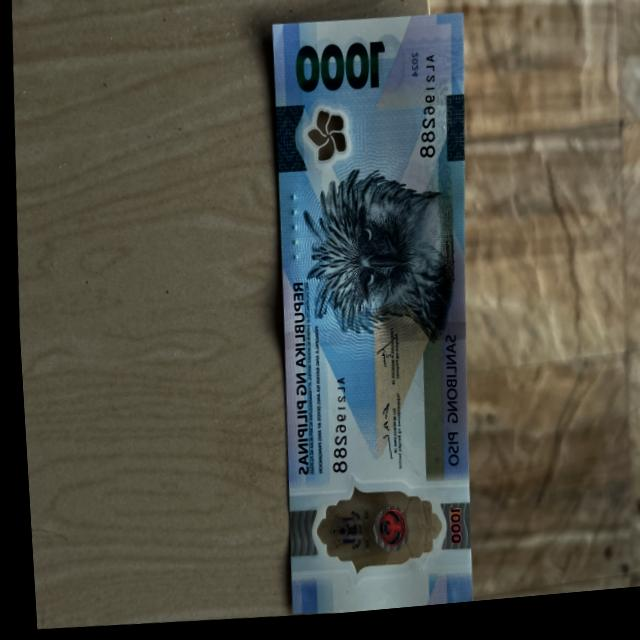clear_window: (300, 476, 443, 581)
eagle: (295, 160, 462, 345)
sampaguita: (301, 107, 350, 168)
